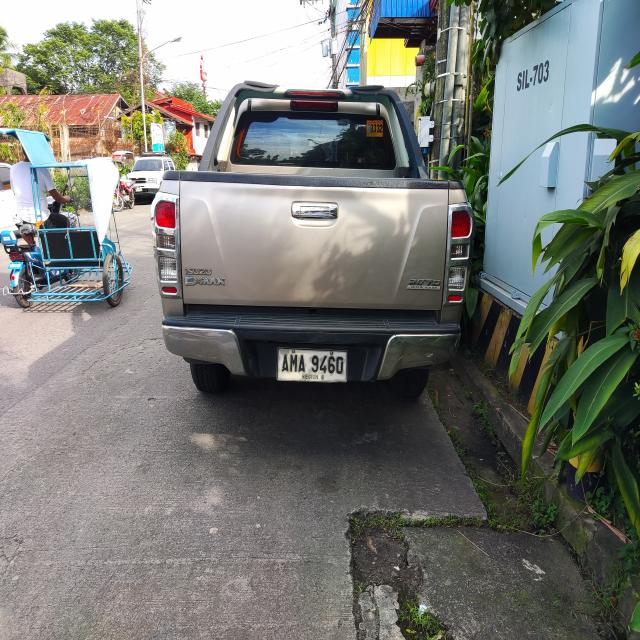plate: (276, 347, 348, 384)
